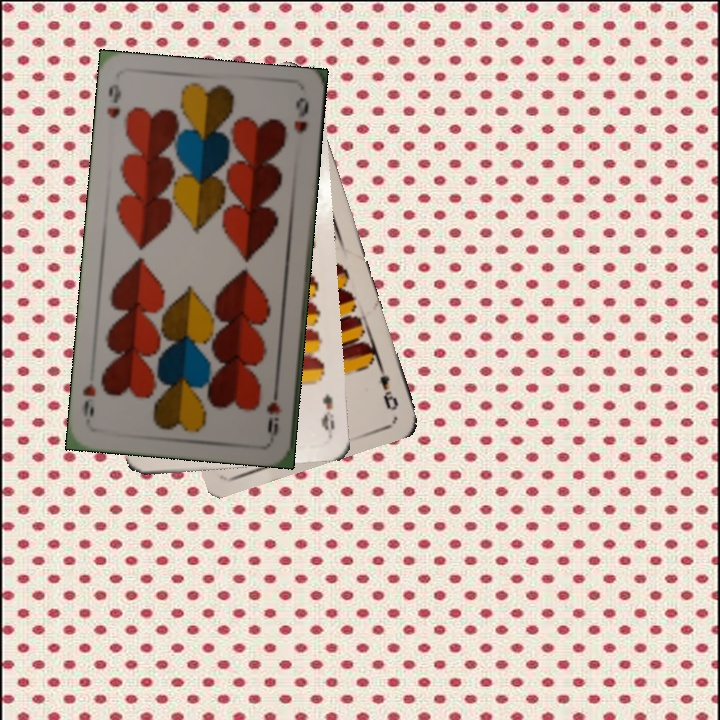E9: (374, 359, 401, 413), (317, 390, 337, 437)
H9: (263, 381, 285, 440), (103, 80, 124, 121)
